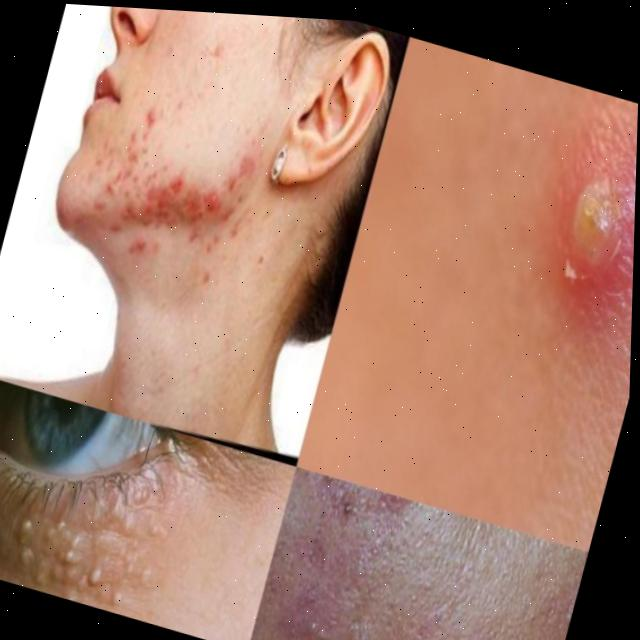Acne: (66, 5, 324, 303), (0, 474, 180, 625), (259, 464, 411, 640), (543, 160, 636, 308)
